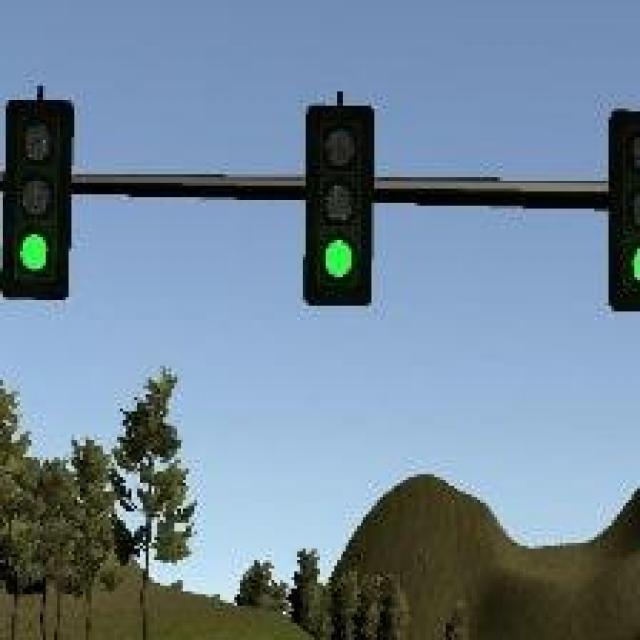green_light: (309, 103, 378, 303), (6, 100, 69, 297)
